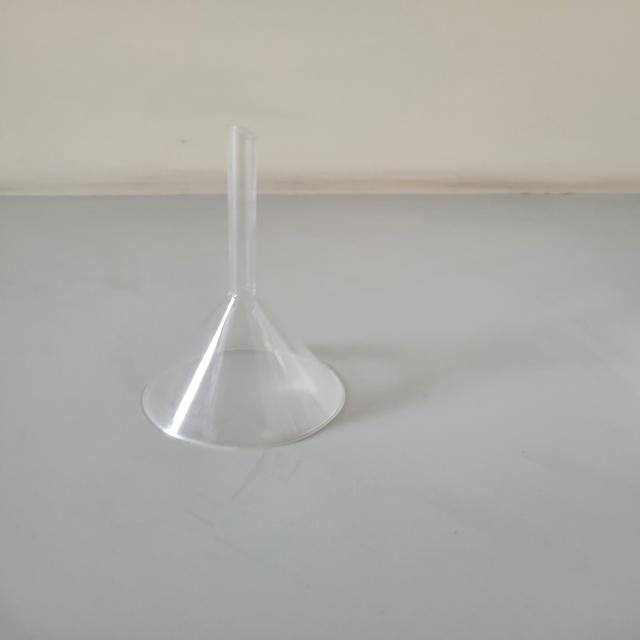Funnel: (132, 95, 372, 493)
